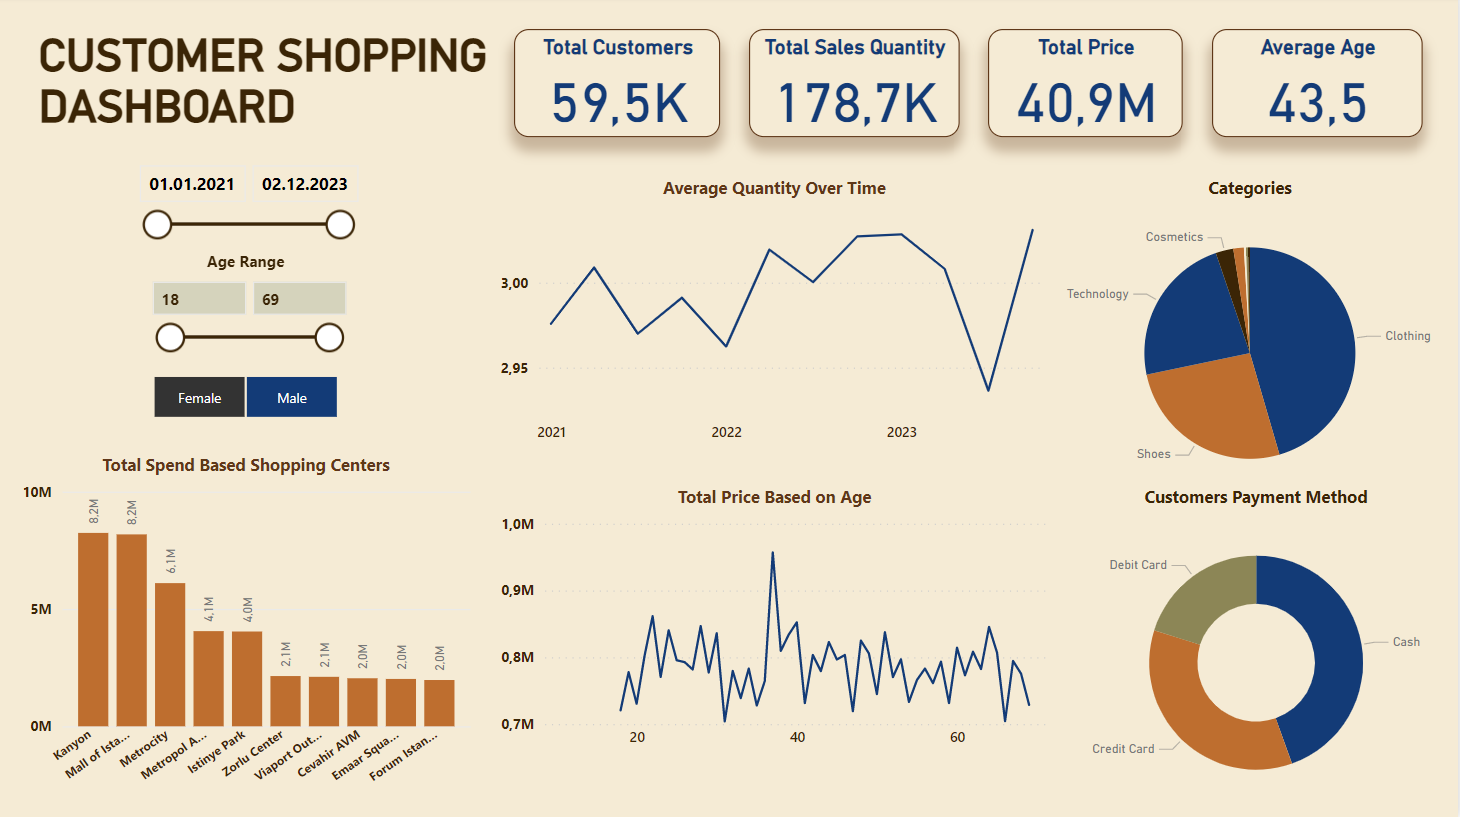

This screenshot's page, from the dashboard's own definition file:
{"tool":"powerbi","page":{"name":"1. sayfa","canvas":[1280,720],"ordinal":0},"visuals":[{"type":"clusteredBarChart","title":"Categories","fields":{"Category":["customer_shopping_data.category"],"Y":["Sum(customer_shopping_data.quantity)"]},"box":[925.5,143.1,345.1,271.3],"z":0},{"type":"columnChart","title":"Total Spend Based Shopping Centers","fields":{"Category":["customer_shopping_data.shopping_mall"],"Y":["Sum(customer_shopping_data.price)"]},"box":[14,439.9,395.1,239.7],"z":1000},{"type":"card","title":"Total Price","fields":{"Values":["Sum(customer_shopping_data.price)"]},"box":[865.8,14.9,170.3,94.8],"z":2000},{"type":"card","title":"Total Sales Quantity","fields":{"Values":["Sum(customer_shopping_data.quantity)"]},"box":[655.9,14.9,184.4,94.8],"z":3000},{"type":"slicer","title":"Invoice Date","fields":{"Values":["customer_shopping_data.invoice_date"]},"box":[72,143.1,233.6,94],"z":4000},{"type":"slicer","title":"Gender","fields":{"Values":["customer_shopping_data.gender"]},"box":[121.2,343.3,135.2,64.1],"z":5000},{"type":"lineChart","title":"Average Quantity Over Time","fields":{"Y":["Avg(customer_shopping_data.quantity)"],"Category":["customer_shopping_data.invoice_date.Varyasyon.Tarih Hiyerarşisi.Yıl","customer_shopping_data.invoice_date.Varyasyon.Tarih Hiyerarşisi.Çeyrek","customer_shopping_data.invoice_date.Varyasyon.Tarih Hiyerarşisi.Ay","customer_shopping_data.invoice_date.Varyasyon.Tarih Hiyerarşisi.Gün"]},"box":[434.6,143.1,490.8,243.2],"z":6000},{"type":"card","title":"Total Customers","fields":{"Values":["CountNonNull(customer_shopping_data.customer_id)"]},"box":[449.6,14.9,180.9,94.8],"z":7000},{"type":"donutChart","title":"Customers Payment Method","fields":{"Category":["customer_shopping_data.payment_method"],"Y":["Count(customer_shopping_data.customer_id)"]},"box":[925.5,439.9,344.2,261.7],"z":8000},{"type":"card","title":"Average Age","fields":{"Values":["Avg(customer_shopping_data.age)"]},"box":[1061.6,14.9,184.4,94.8],"z":9000},{"type":"lineChart","title":"Total Price Based on Age","fields":{"Category":["customer_shopping_data.age"],"Y":["Sum(customer_shopping_data.price)"]},"box":[426.7,439.9,490.8,239.7],"z":10000},{"type":"textbox","title":"CUSTOMER SHOPPING DASHBOARD","box":[14,14.9,428.5,94.8],"z":11000},{"type":"slicer","title":"Age Range","fields":{"Values":["customer_shopping_data.age"]},"box":[88.7,243.2,200.2,94],"z":12000}]}

Visuals, with their boxes in screenshot pixels (x1, y1, x2, y2), scaled from the page's 1280x720 canvas onto the 1460x817 screenshot:
"Categories" clusteredBarChart: 1056:162:1449:470
"Total Spend Based Shopping Centers" columnChart: 16:499:467:771
"Total Price" card: 988:17:1182:124
"Total Sales Quantity" card: 748:17:958:124
"Invoice Date" slicer: 82:162:349:269
"Gender" slicer: 138:390:292:462
"Average Quantity Over Time" lineChart: 496:162:1056:438
"Total Customers" card: 513:17:719:124
"Customers Payment Method" donutChart: 1056:499:1448:796
"Average Age" card: 1211:17:1421:124
"Total Price Based on Age" lineChart: 487:499:1047:771
"CUSTOMER SHOPPING DASHBOARD" textbox: 16:17:505:124
"Age Range" slicer: 101:276:330:383
